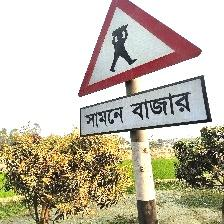Market-in-front: (77, 0, 211, 138)
